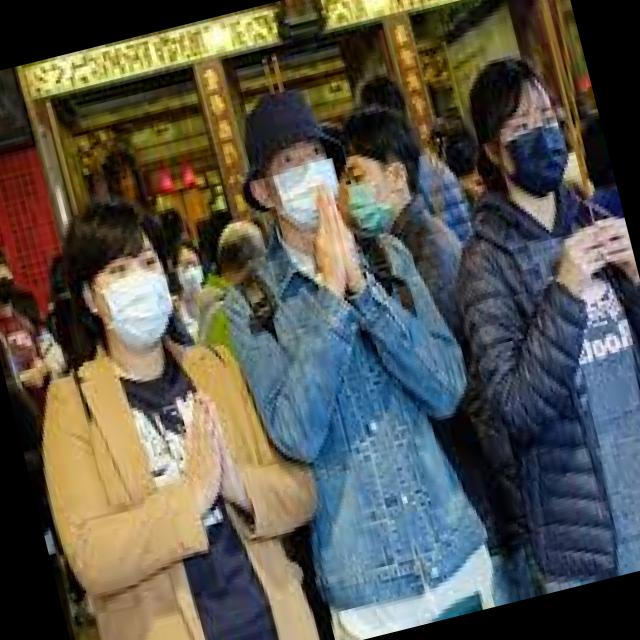Jacket: (232, 200, 483, 640), (416, 149, 640, 572), (31, 306, 303, 640)
